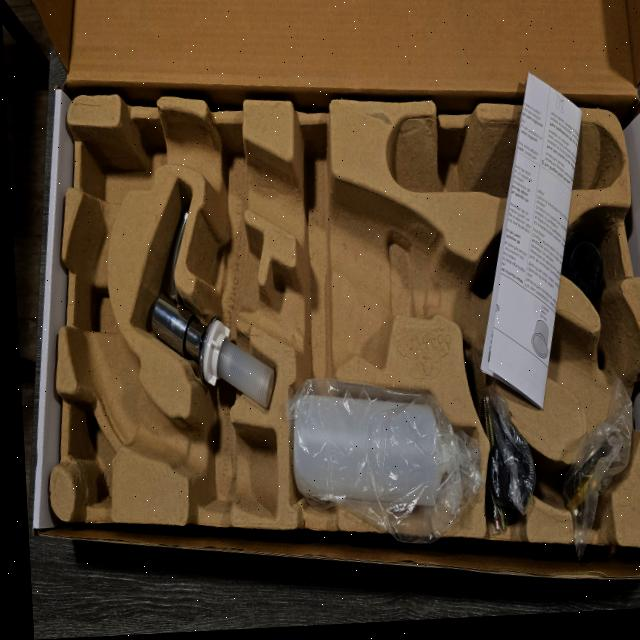1m: (61, 107, 640, 515)
2: (149, 208, 276, 408)
3: (289, 391, 474, 508)
4m: (387, 116, 620, 201)
5o: (549, 236, 602, 295)
6: (561, 375, 635, 560)
7: (481, 392, 534, 538)
8: (479, 72, 582, 408)
